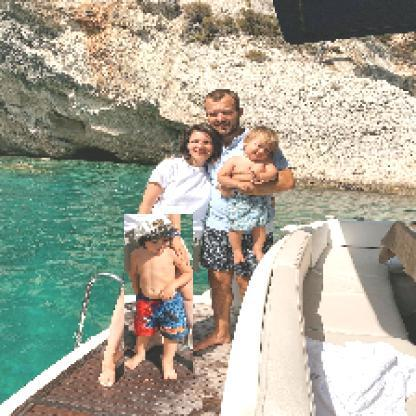child: (125, 215, 195, 382), (218, 127, 283, 270)
